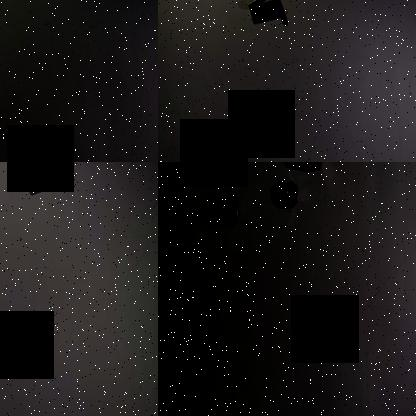Bolts: (21, 162, 56, 198), (242, 0, 278, 14)
NUTS: (216, 191, 240, 233), (280, 178, 300, 209), (300, 162, 327, 173)
